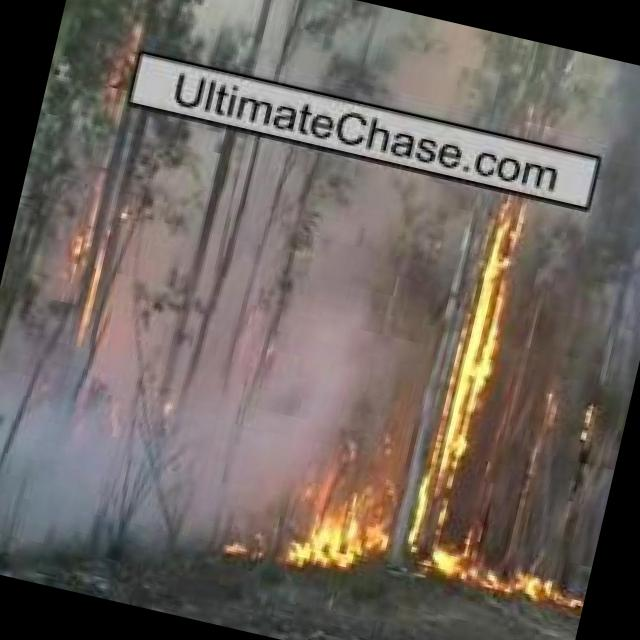Fire: (296, 478, 597, 621), (419, 182, 542, 516), (41, 212, 126, 362), (91, 16, 154, 110), (567, 402, 598, 454)
Smoke: (0, 93, 474, 591), (183, 0, 640, 169)
